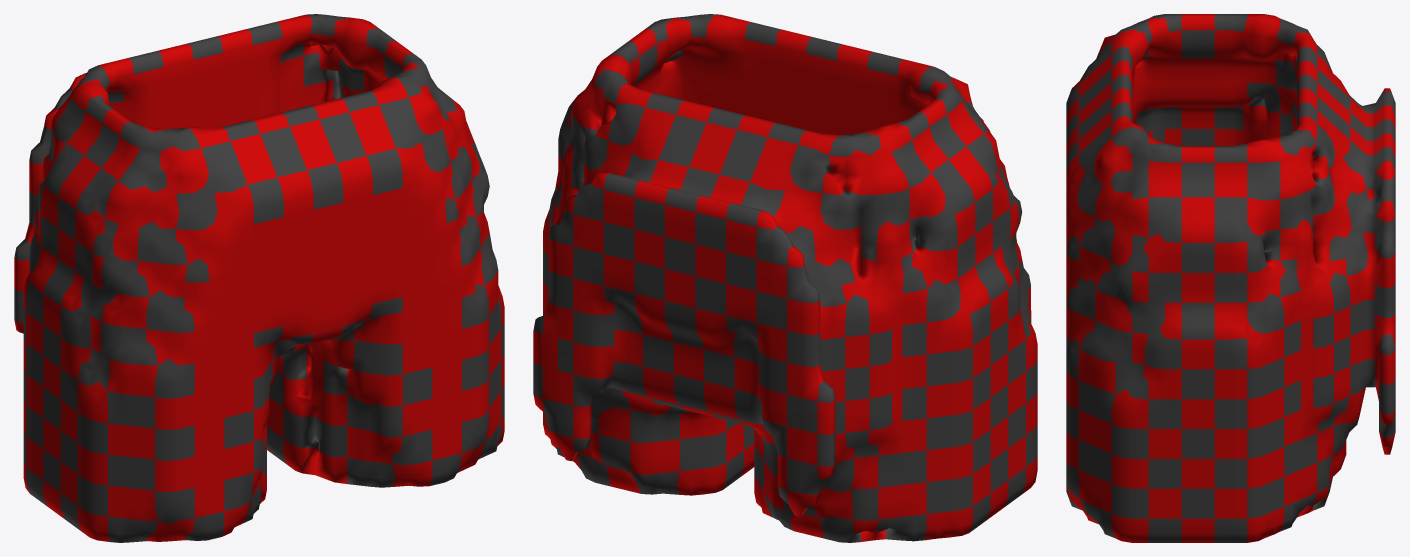
3 views of the same model, side by side, from view 1: azimuth 30°, elevation 25°; view 2: azimuth 150°, elevation 25°; view 3: azimuth 270°, elevation 25° (orthographic). The views are drawn at different scales.
Bounding box in the file's own units: 1.4 × 1.25 × 1.
